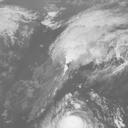cyclone: (53, 113, 91, 127)
